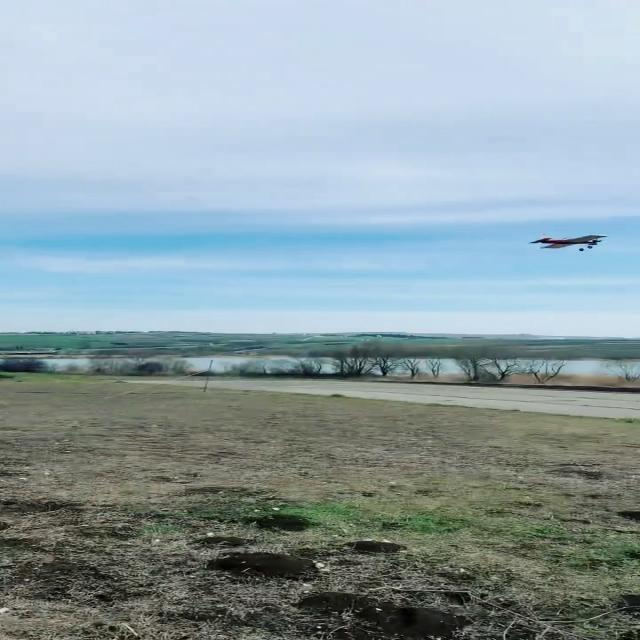iha: (560, 223, 580, 259)
